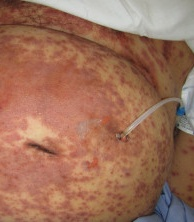SJS-TEN: (1, 0, 185, 221)
